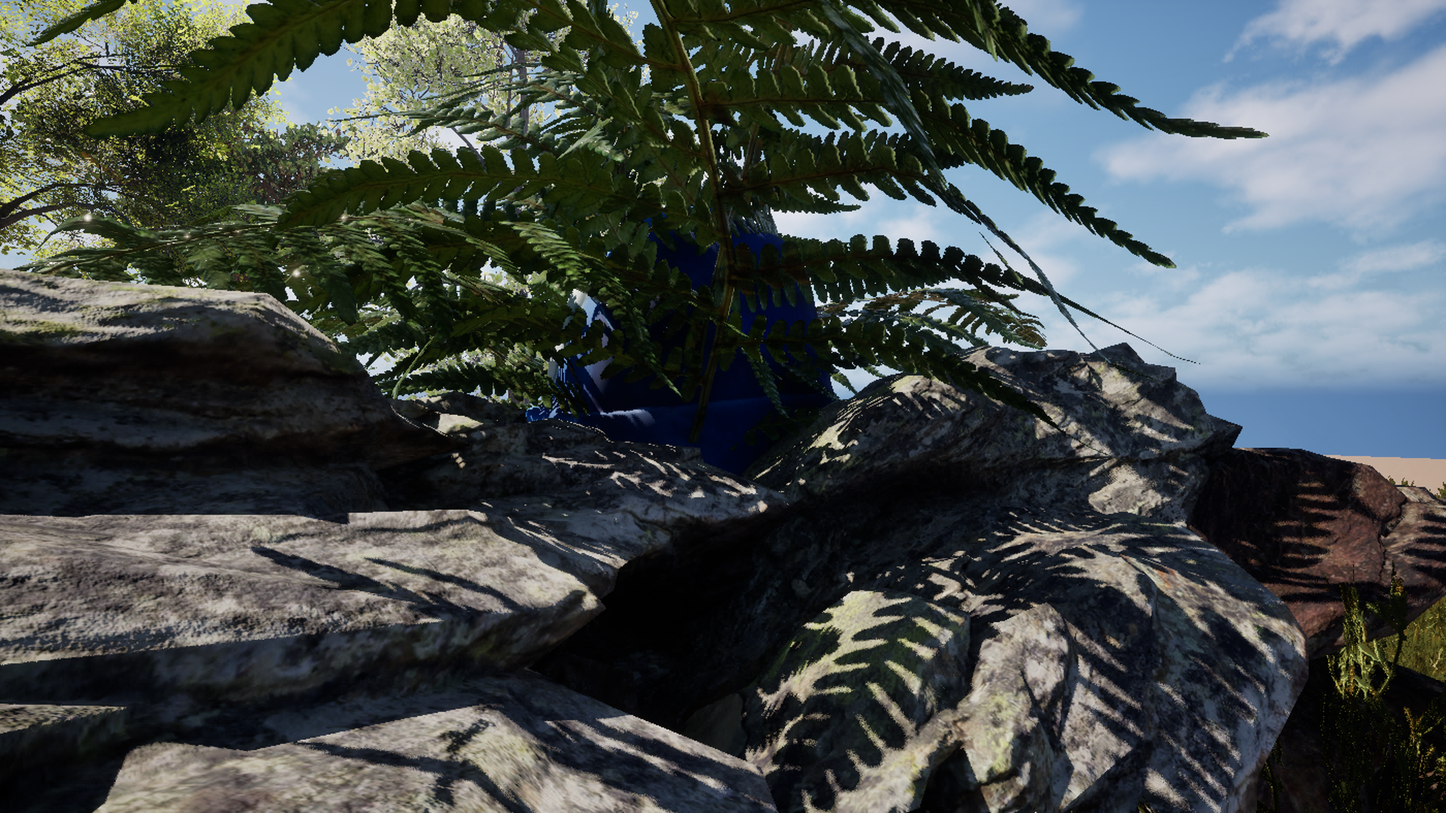Piplup: (355, 22, 1063, 791)
